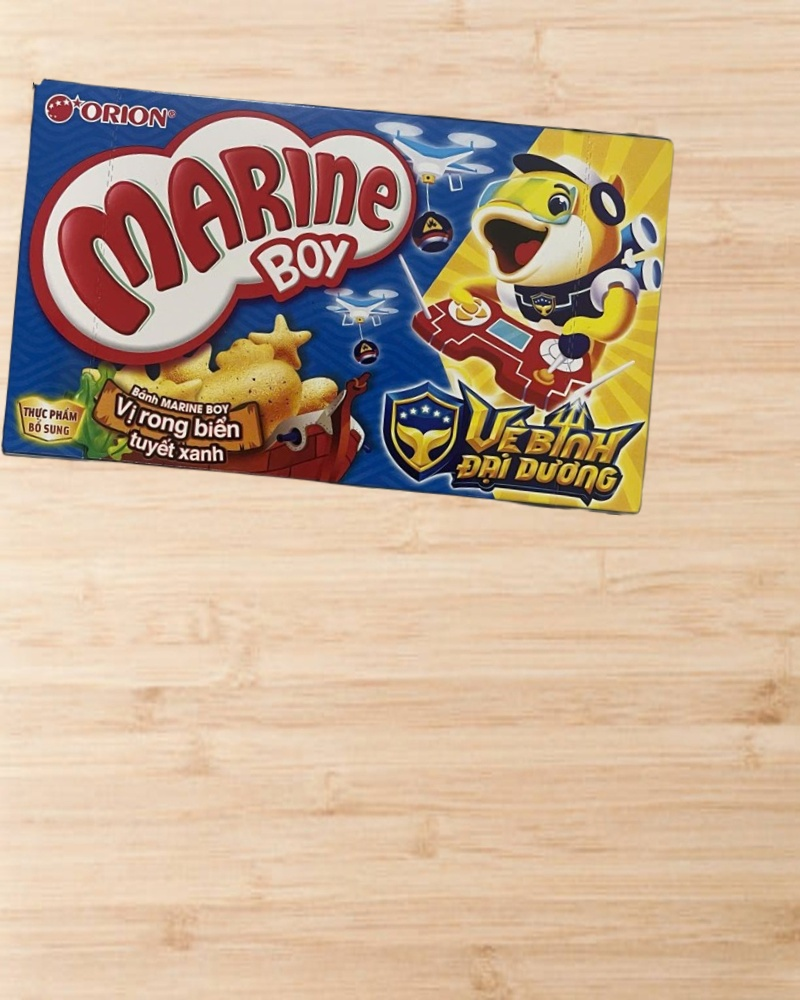Marine: (3, 79, 677, 516)
